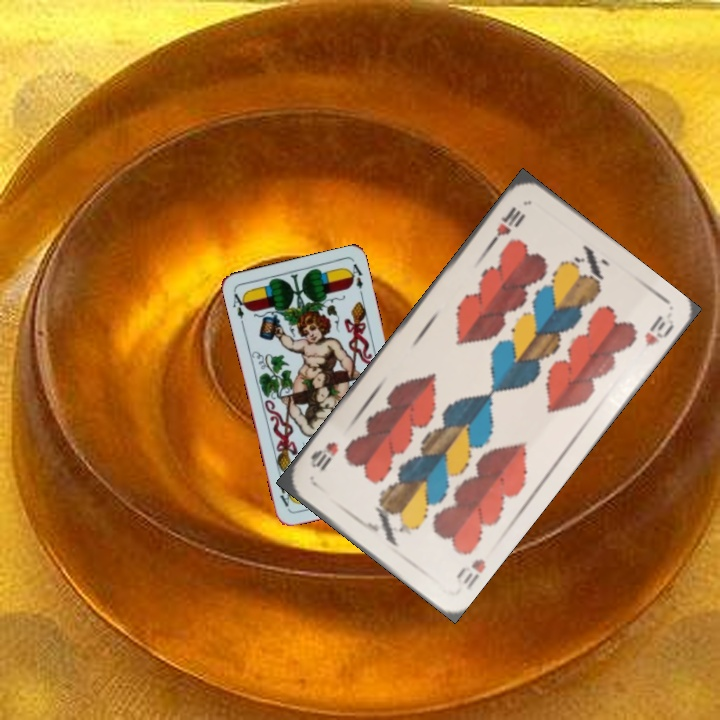EA: (229, 288, 250, 321)
H10: (484, 202, 528, 250), (451, 554, 489, 592)
